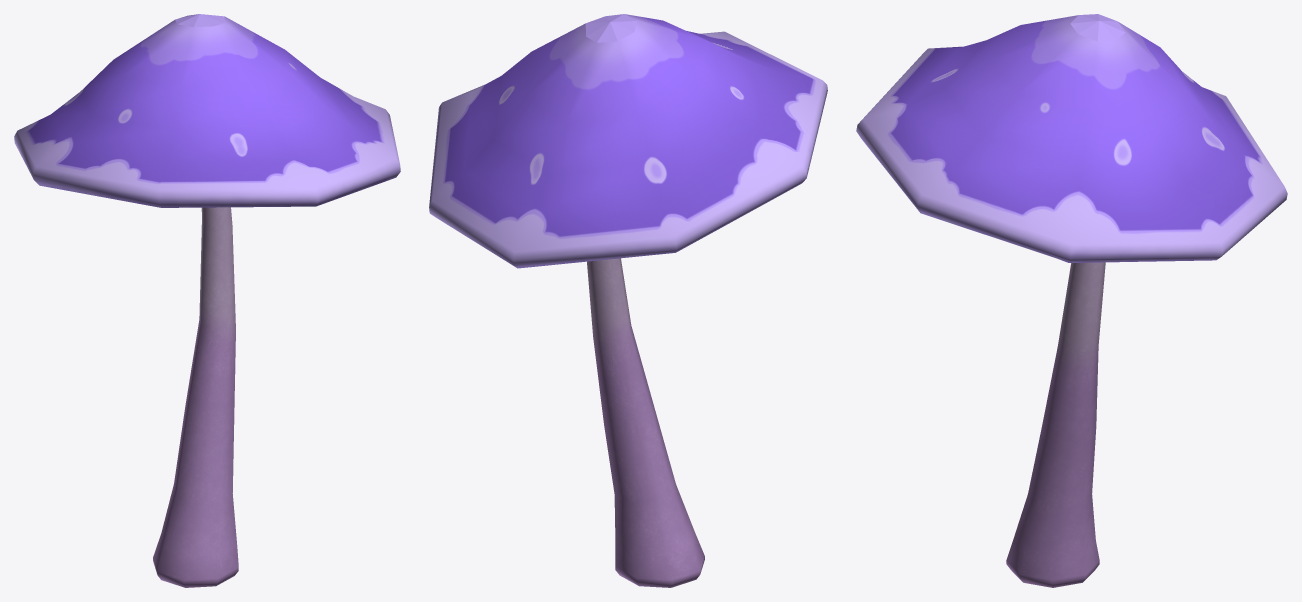
File: seta rara.fbx
The picture shows the model from 3 angles, left to right: view 1: azimuth 30°, elevation 25°; view 2: azimuth 150°, elevation 25°; view 3: azimuth 270°, elevation 25°; orthographic projection. The views are drawn at different scales.
Visible parts, largest first — view 1: seta rara, tronco seta rara; view 2: seta rara, tronco seta rara; view 3: seta rara, tronco seta rara.
Part boxes in pixels (x1,y1,x2,y2): seta rara: (14,14,400,207); tronco seta rara: (153,207,238,587); seta rara: (429,14,827,268); tronco seta rara: (587,258,704,587); seta rara: (856,14,1287,262); tronco seta rara: (1006,262,1105,587).
Size of the model in its own units: 239 by 349 by 240.
